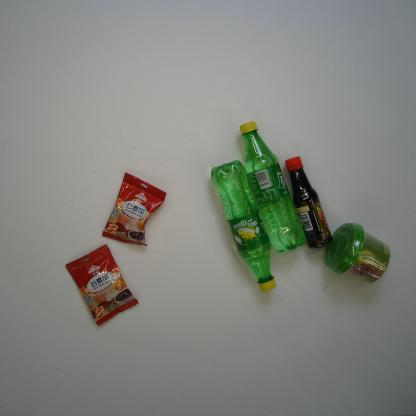Drink: (239, 120, 306, 253), (210, 159, 277, 292)
Instant Drink: (64, 243, 140, 327), (101, 171, 167, 247), (324, 222, 392, 284)
Seasoner: (284, 155, 333, 249)
